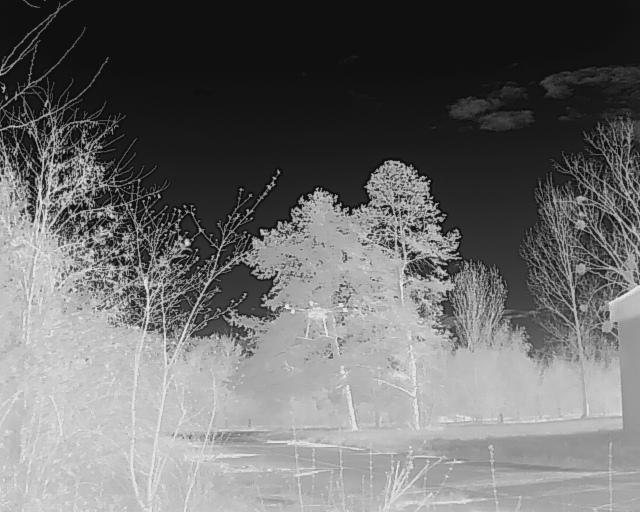drone: (276, 296, 354, 349)
